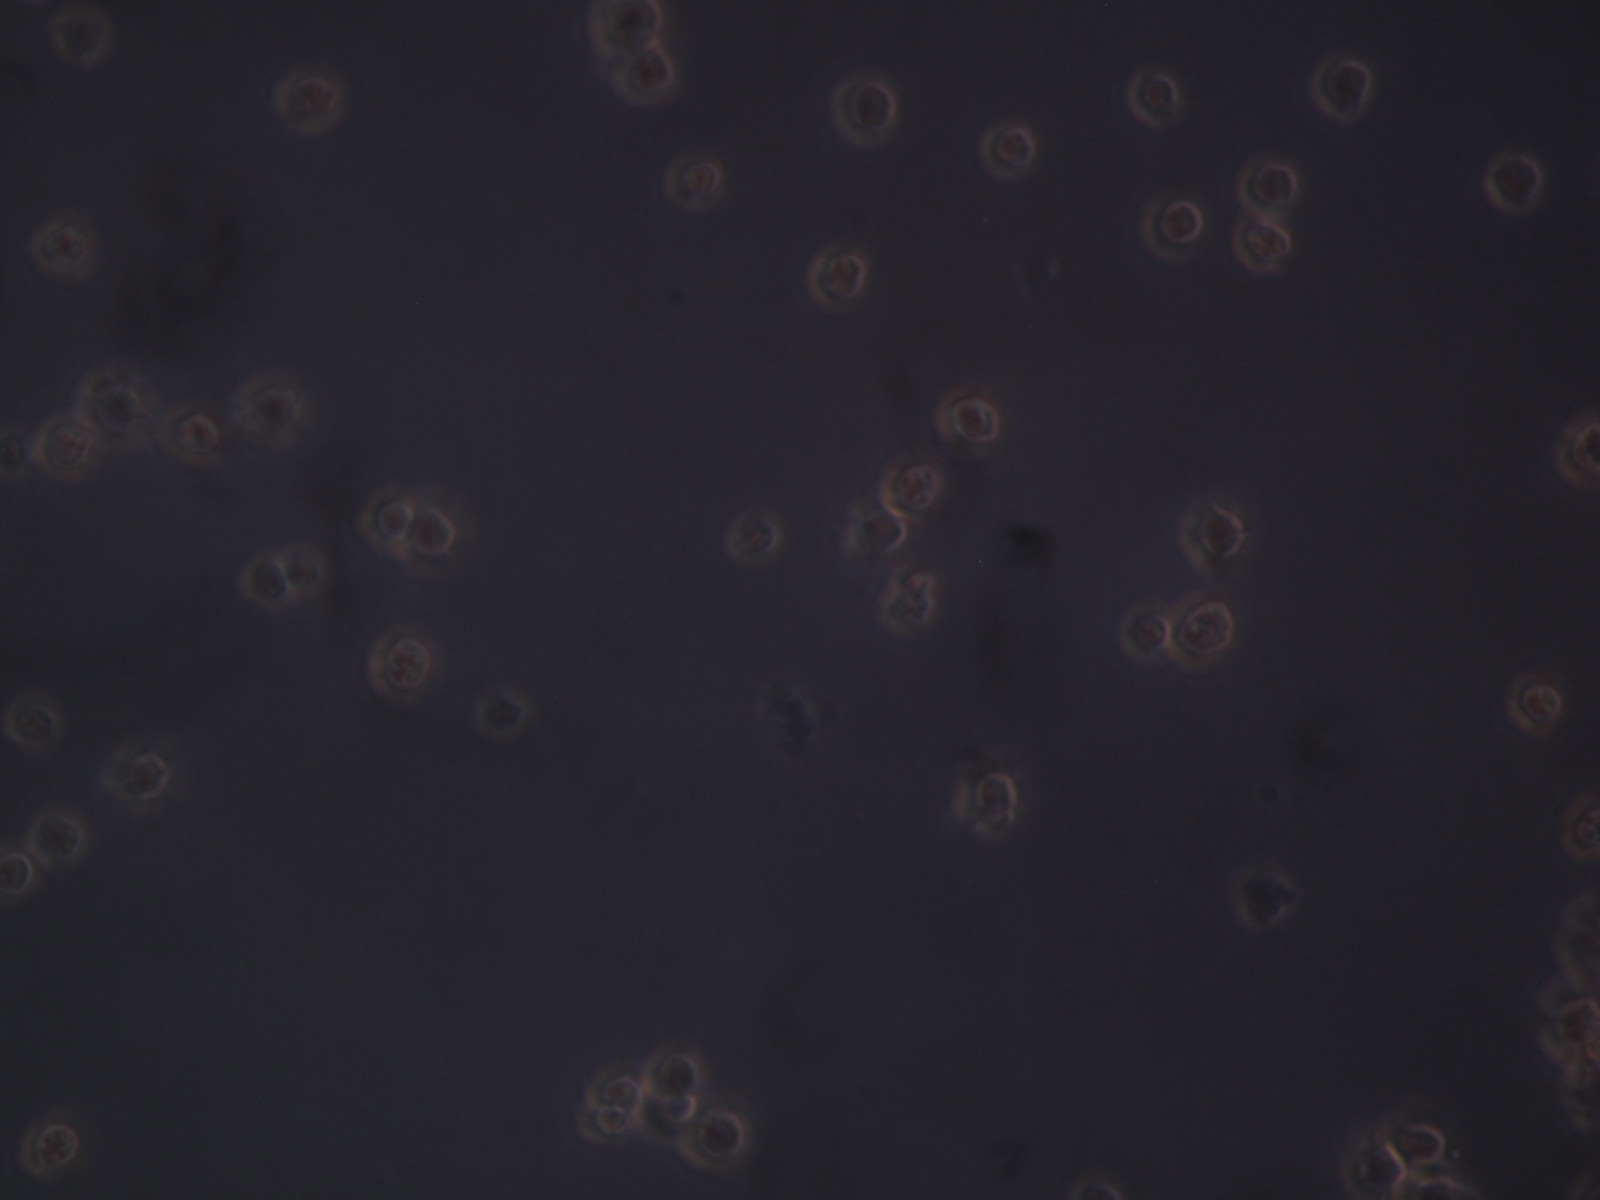hemo: (1169, 591, 1233, 671), (368, 630, 431, 705), (231, 377, 301, 441), (81, 371, 141, 442), (949, 763, 1015, 827), (831, 79, 896, 146), (1182, 500, 1243, 570), (277, 72, 340, 139), (1140, 195, 1203, 261), (806, 243, 866, 311), (1237, 153, 1298, 217), (678, 1116, 745, 1174), (1311, 57, 1373, 118), (1233, 216, 1293, 279), (31, 418, 94, 478), (21, 1113, 79, 1175), (359, 487, 411, 555), (661, 151, 721, 211), (1485, 153, 1542, 214), (161, 406, 218, 466), (937, 387, 999, 442), (105, 749, 169, 802), (1511, 672, 1562, 737), (1351, 1139, 1409, 1197), (29, 816, 87, 874), (615, 50, 677, 105), (588, 1, 664, 45), (879, 572, 934, 633), (33, 222, 93, 276), (1555, 418, 1600, 490), (876, 459, 937, 511), (1117, 606, 1170, 664), (4, 696, 58, 750), (277, 541, 329, 597), (981, 126, 1037, 178), (1130, 71, 1180, 127), (1561, 794, 1600, 863), (1400, 1117, 1453, 1167), (236, 556, 289, 606), (409, 499, 454, 560), (644, 1053, 700, 1098), (576, 1104, 636, 1145), (727, 512, 777, 560), (588, 1071, 644, 1111), (847, 517, 907, 552), (1, 852, 34, 894), (659, 1095, 697, 1122)
